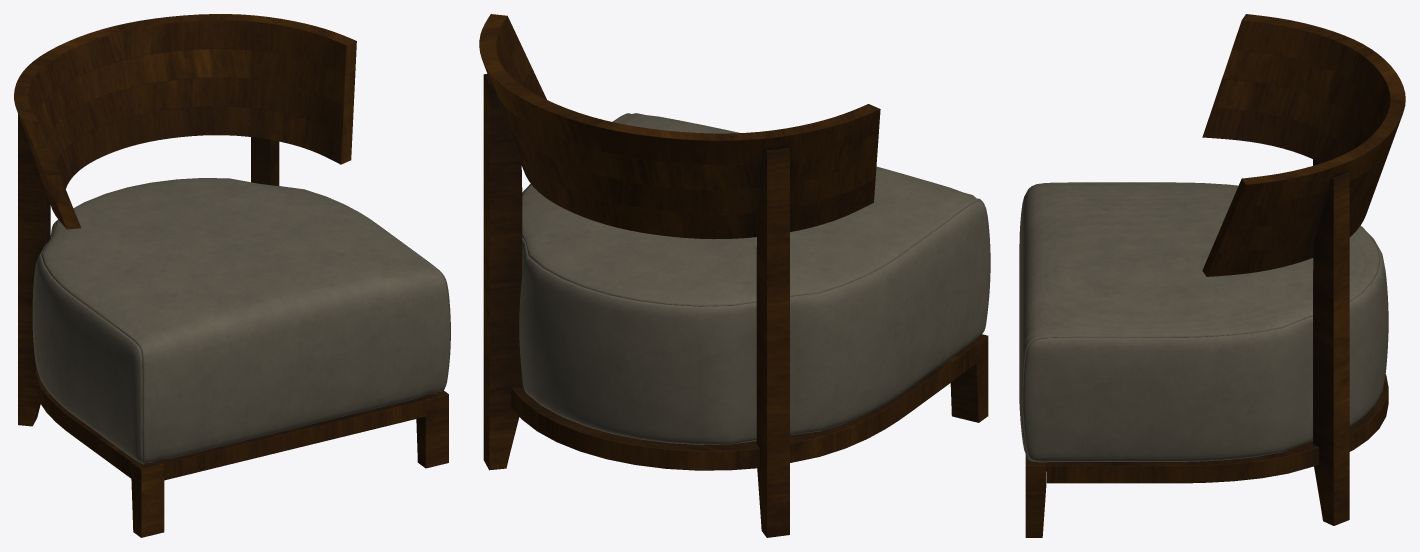
File: Chair.obj
3 views of the same model, side by side, from view 1: azimuth 30°, elevation 25°; view 2: azimuth 150°, elevation 25°; view 3: azimuth 270°, elevation 25° (orthographic). The views are drawn at different scales.
Visible parts, largest first — view 1: Chair; view 2: Chair; view 3: Chair.
Part boxes in pixels (left/top/right/bottom): Chair: left=14, top=14, right=450, bottom=537; Chair: left=479, top=14, right=990, bottom=537; Chair: left=1019, top=14, right=1405, bottom=537.
Size of the model in its own units: 30.22 by 29.67 by 28.9.
Materials: 1 (1 with a texture image).
